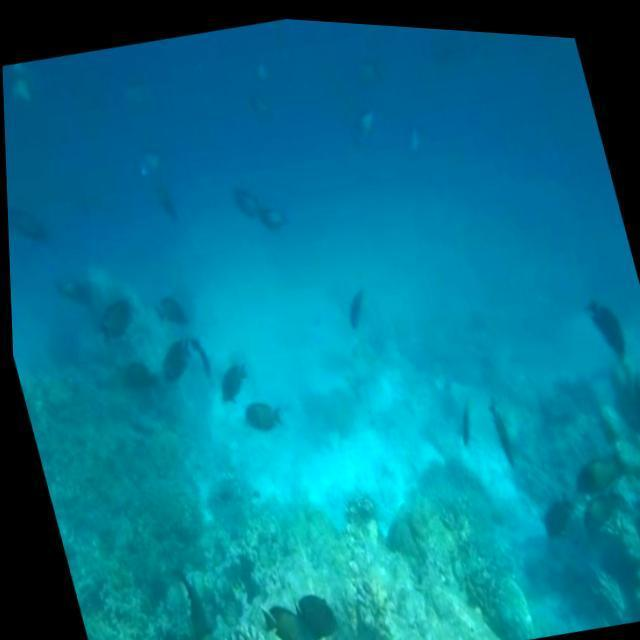Dead Coral: (28, 328, 536, 640)
